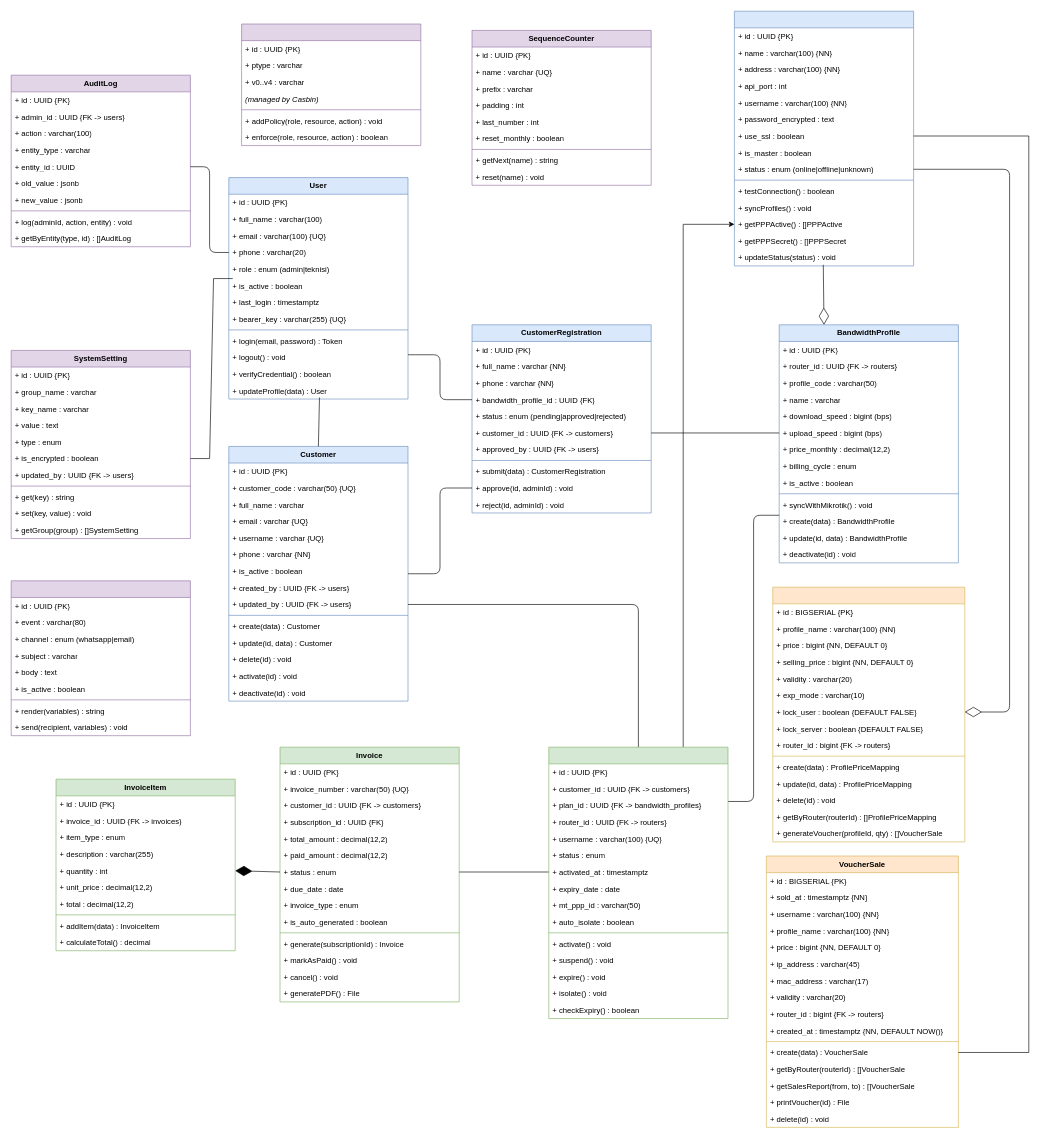
The diagram is 1041 pixels wide and 1140 high, and some of its shapes have lost their labels. The box of each missing label's shape, as (x1, y1, x2, y2) in pixels:
CasbinRule: (241, 23, 421, 146)
hotspot_profile: (772, 587, 965, 842)
MessageTemplate: (11, 580, 190, 736)
MikrotikRouter: (734, 11, 914, 266)
Subscription: (548, 747, 728, 1019)
